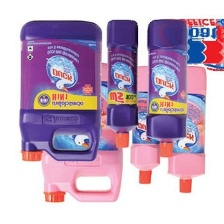cleaning_solution: (39, 58, 124, 207), (16, 18, 102, 165), (144, 16, 190, 159), (166, 62, 206, 194), (104, 17, 140, 150), (129, 63, 163, 188)
